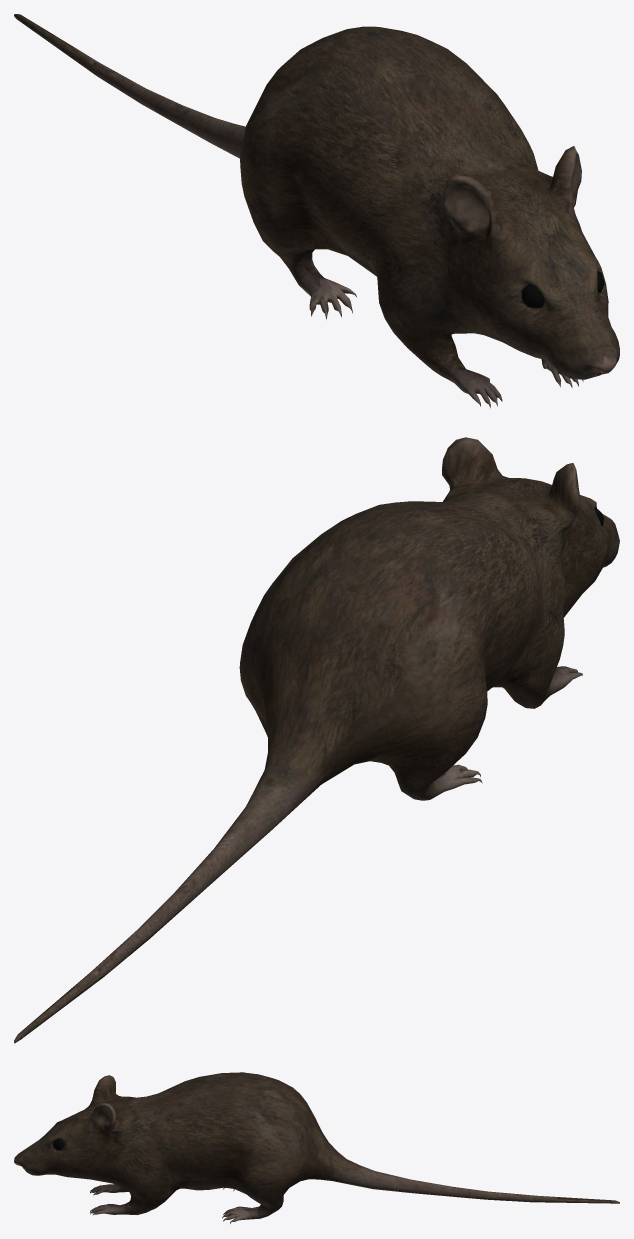
File: street_rat.gltf
3 renders of one model, top to bottom at view 1: azimuth 30°, elevation 25°; view 2: azimuth 150°, elevation 25°; view 3: azimuth 270°, elevation 25°, orthographic. The views are drawn at different scales.
Visible parts, largest first — view 1: street_rat__x; view 2: street_rat__x; view 3: street_rat__x.
Boxes of the visible parts, x1,y1,x2,y2 form: street_rat__x: (14,14,619,408); street_rat__x: (14,437,619,1043); street_rat__x: (14,1072,619,1223).
Size of the model in its own units: 0.0324 by 0.034 by 0.1483.
1 material, 1 textured.
